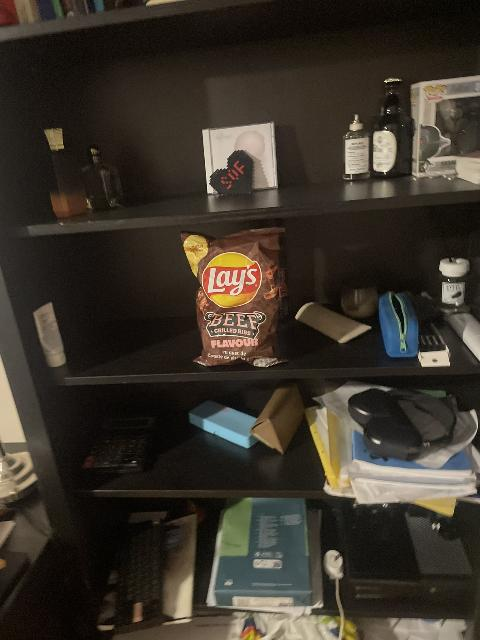Lays Beef Grilled Ribs 125g: (182, 228, 290, 370)
